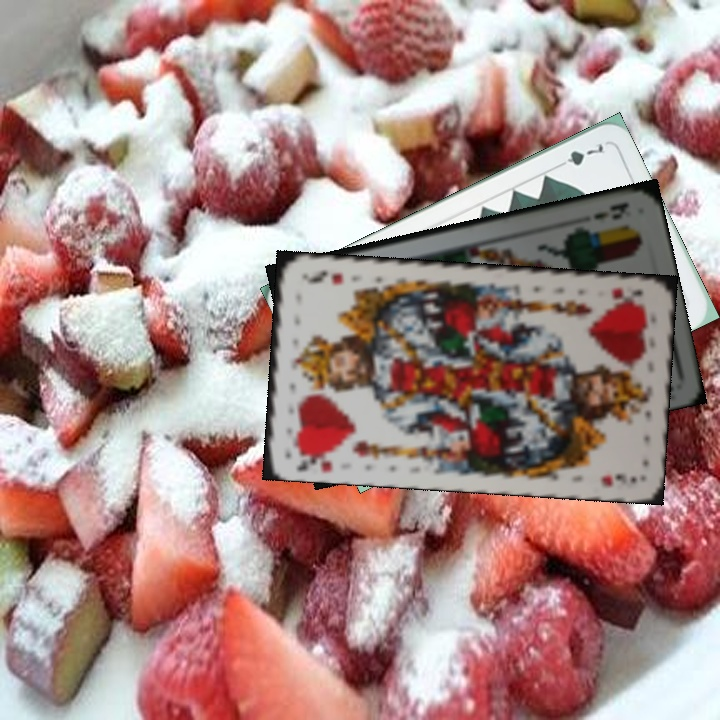EK: (589, 198, 631, 222)
G7: (551, 139, 606, 172)
HK: (292, 446, 341, 474), (608, 283, 648, 308)
